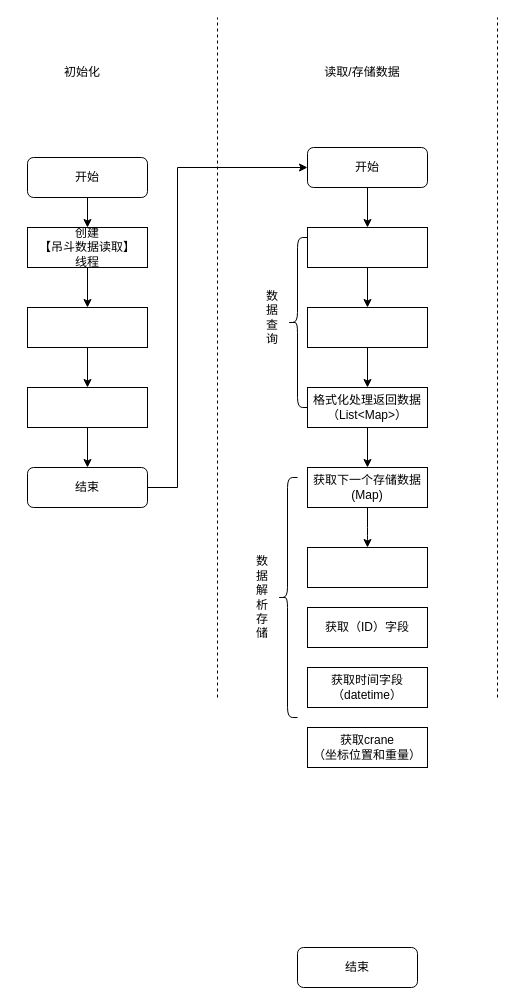
Image size: 516x1005. Some labels were removed from this diagram. The centre of each missing label's shape, as x and y in pixels:
建立【数据库连接】: [87,327]
执行查询: [367,327]
拼接查询SQL: [367,247]
获取上次最后读取的 【表和ID】: [87,407]
解析Map: [367,567]
